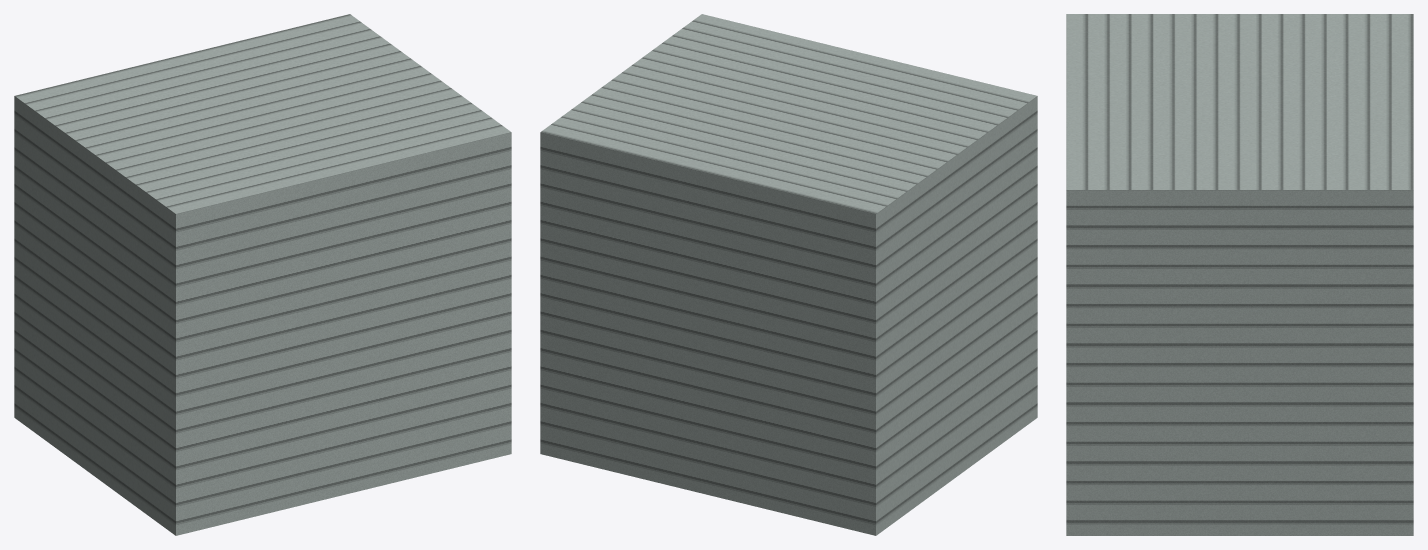
File: walkin_cooler_freezer.glb
The picture shows the model from 3 angles, left to right: view 1: azimuth 30°, elevation 25°; view 2: azimuth 150°, elevation 25°; view 3: azimuth 270°, elevation 25°; orthographic projection. The views are drawn at different scales.
Visible parts, largest first — view 1: walkin_cooler_freezer-col; view 2: walkin_cooler_freezer-col; view 3: walkin_cooler_freezer-col.
Part boxes in pixels (x1,y1,x2,y2): walkin_cooler_freezer-col: [14, 14, 511, 535]; walkin_cooler_freezer-col: [540, 14, 1037, 535]; walkin_cooler_freezer-col: [1066, 14, 1413, 535].
Size of the model in its own units: 2.4 by 2.2 by 2.
1 material, 1 textured.
